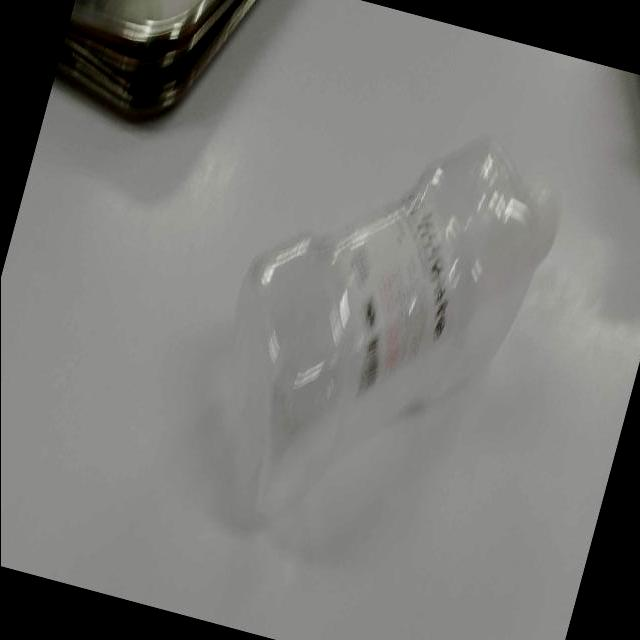General: (3, 1, 639, 637)
Infectious: (223, 135, 565, 554)
Sharps: (55, 0, 258, 120)
